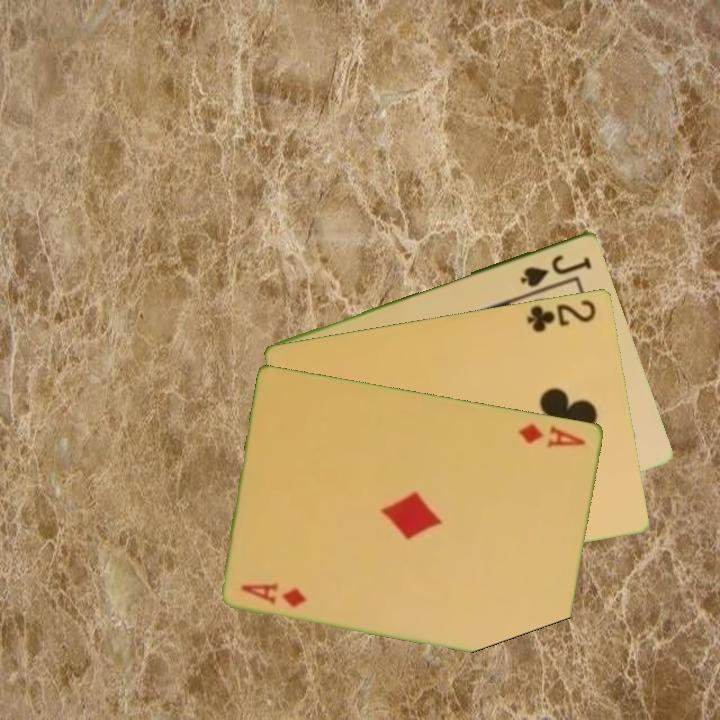2c: (523, 295, 599, 335)
Ad: (237, 578, 310, 610), (514, 419, 589, 450)
Js: (516, 251, 594, 289)
